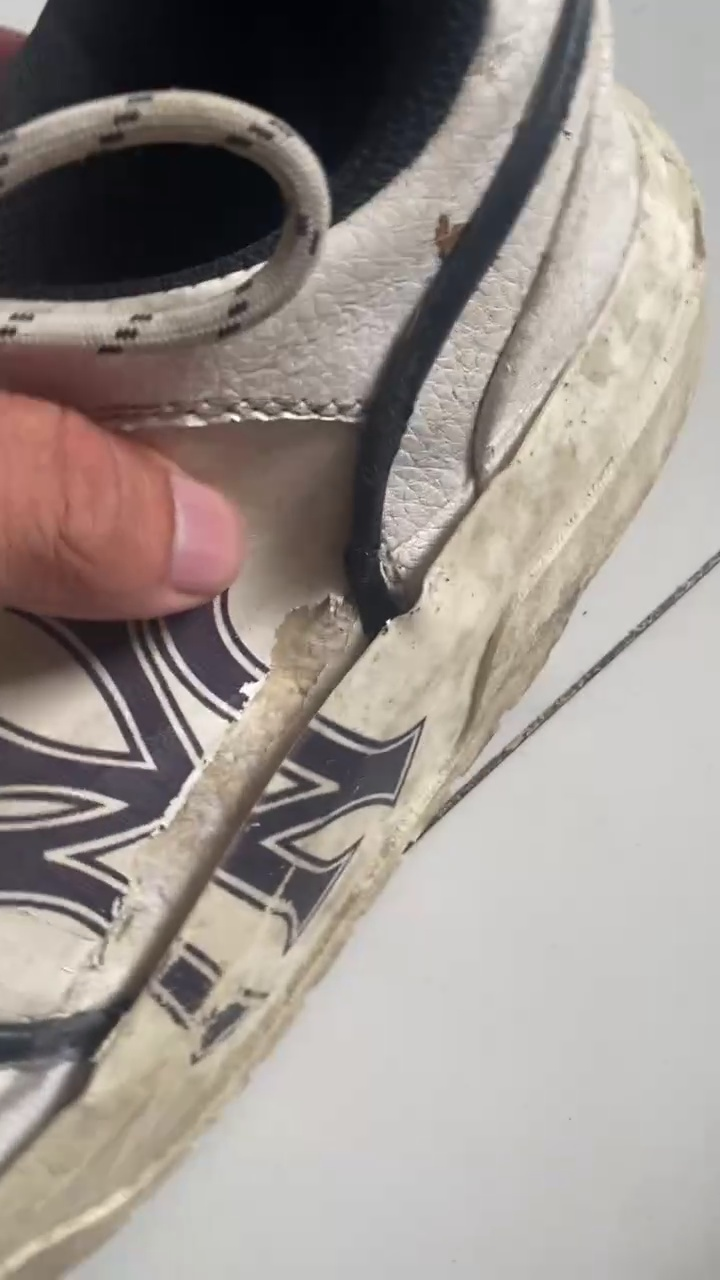bonding: (305, 512, 439, 634), (41, 949, 140, 1082), (235, 635, 353, 744), (111, 852, 221, 949), (171, 748, 272, 849)
